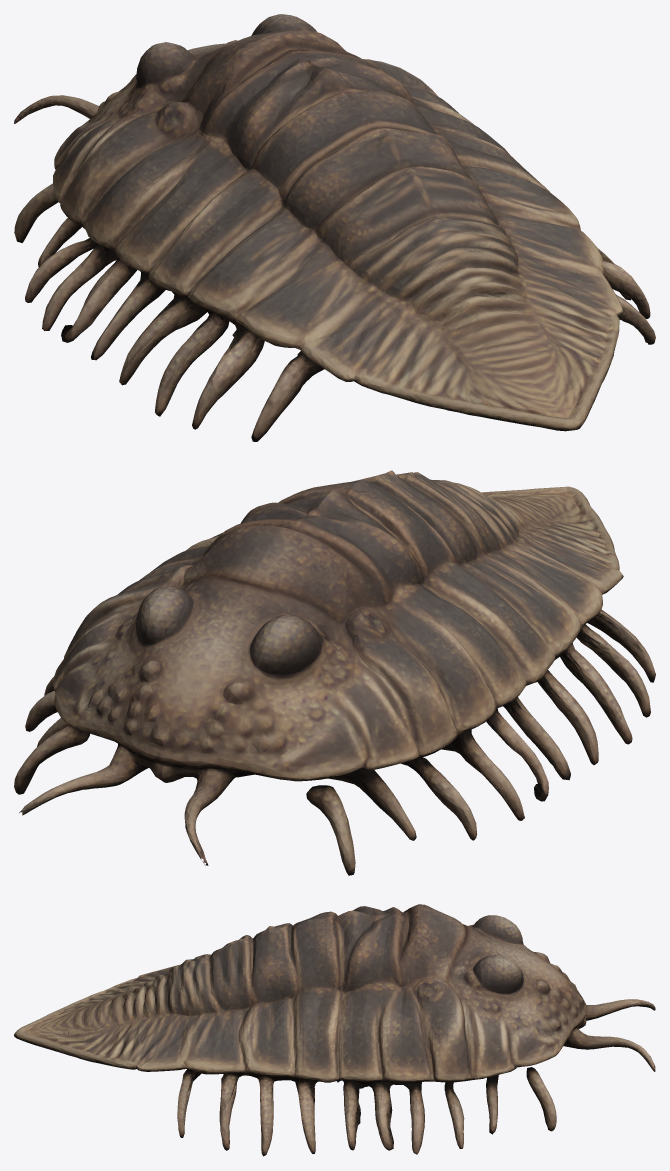
3 renders of one model, top to bottom at view 1: azimuth 30°, elevation 25°; view 2: azimuth 150°, elevation 25°; view 3: azimuth 270°, elevation 25°, orthographic. The views are drawn at different scales.
Parts seen in each view (by area): view 1: world; view 2: world; view 3: world.
Part boxes in pixels (left/top/right/bottom): world: left=14, top=14, right=655, bottom=441; world: left=14, top=470, right=655, bottom=875; world: left=14, top=904, right=655, bottom=1156.
Size of the model in its own units: 0.5949 by 0.2852 by 0.9951.
1 material, 1 textured.
